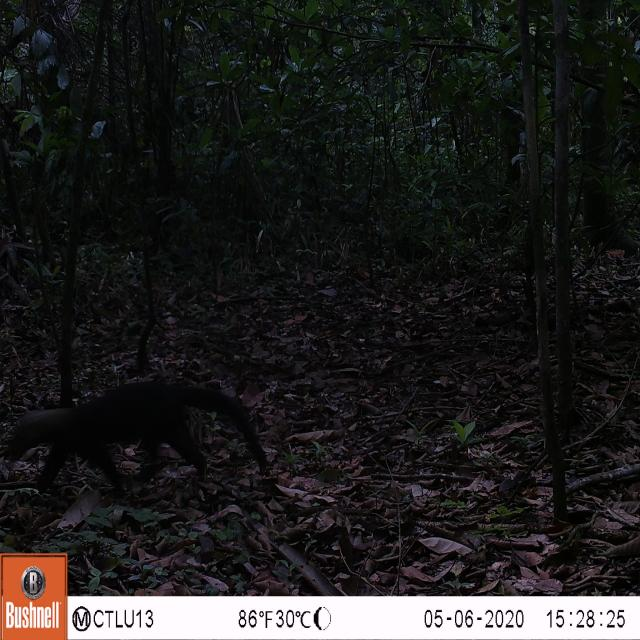Tayra: (0, 363, 273, 498)
